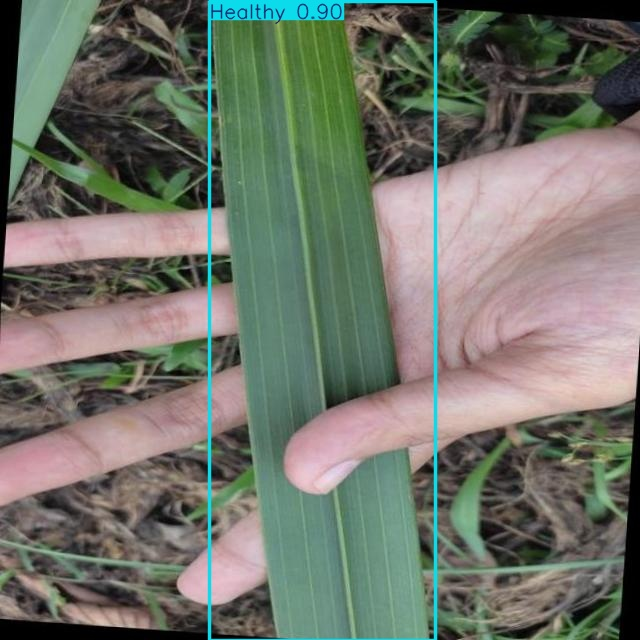Healthy: (209, 1, 435, 640)
